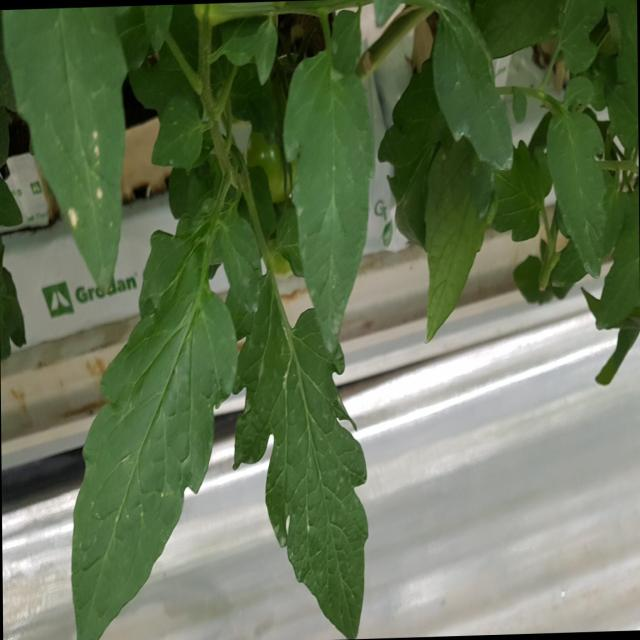Healthy Leaf: (46, 218, 235, 640), (223, 247, 372, 640), (282, 39, 375, 363), (419, 133, 494, 349), (426, 0, 514, 172), (542, 87, 610, 286), (147, 98, 208, 183)
